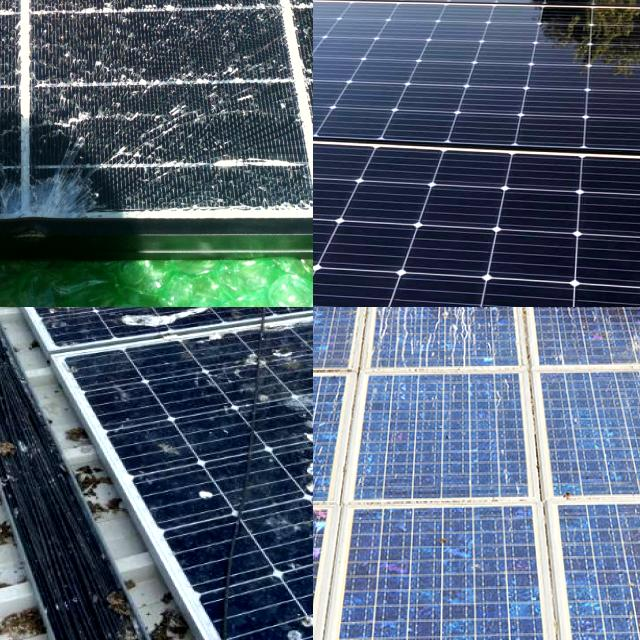bird: (379, 307, 518, 374), (524, 307, 640, 329), (620, 307, 640, 358)
crack: (313, 117, 640, 307), (313, 0, 640, 177), (313, 0, 640, 59)
hotspot: (0, 148, 117, 223)
